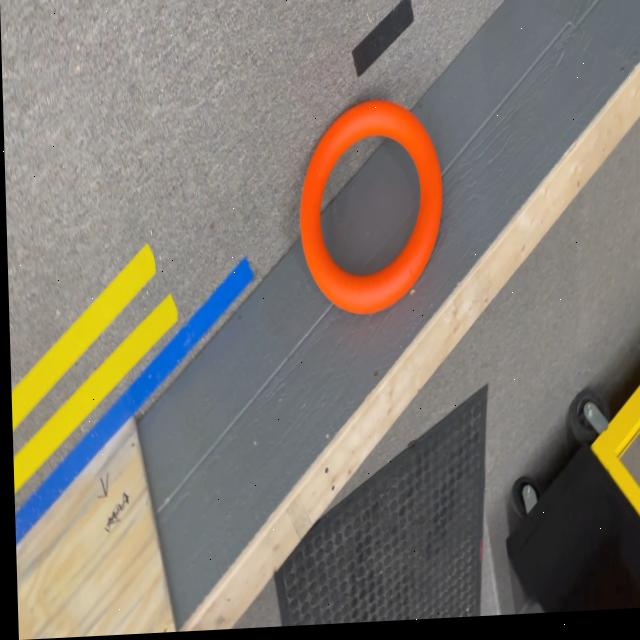note: (296, 103, 444, 322)
